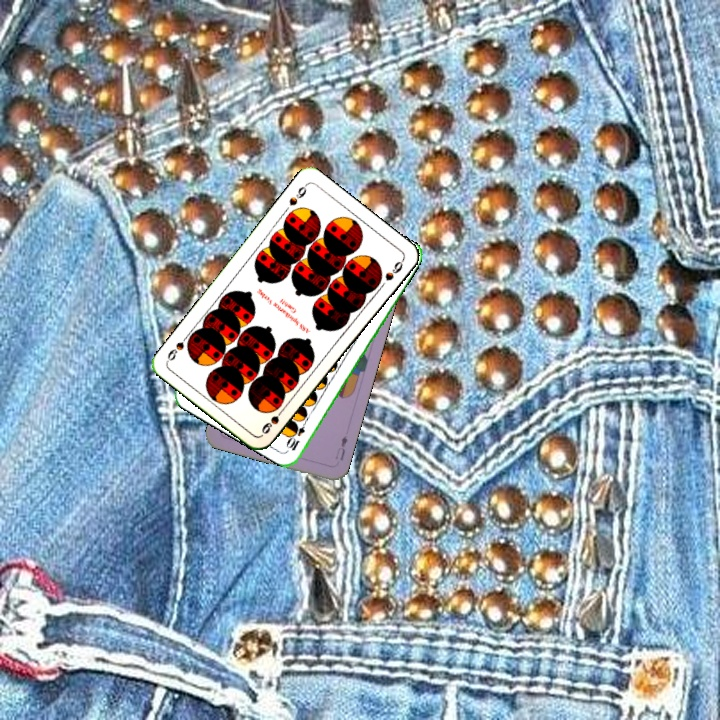E10: (283, 415, 310, 453)
EU: (331, 431, 350, 463)
S9: (257, 403, 288, 437), (285, 180, 310, 208)
